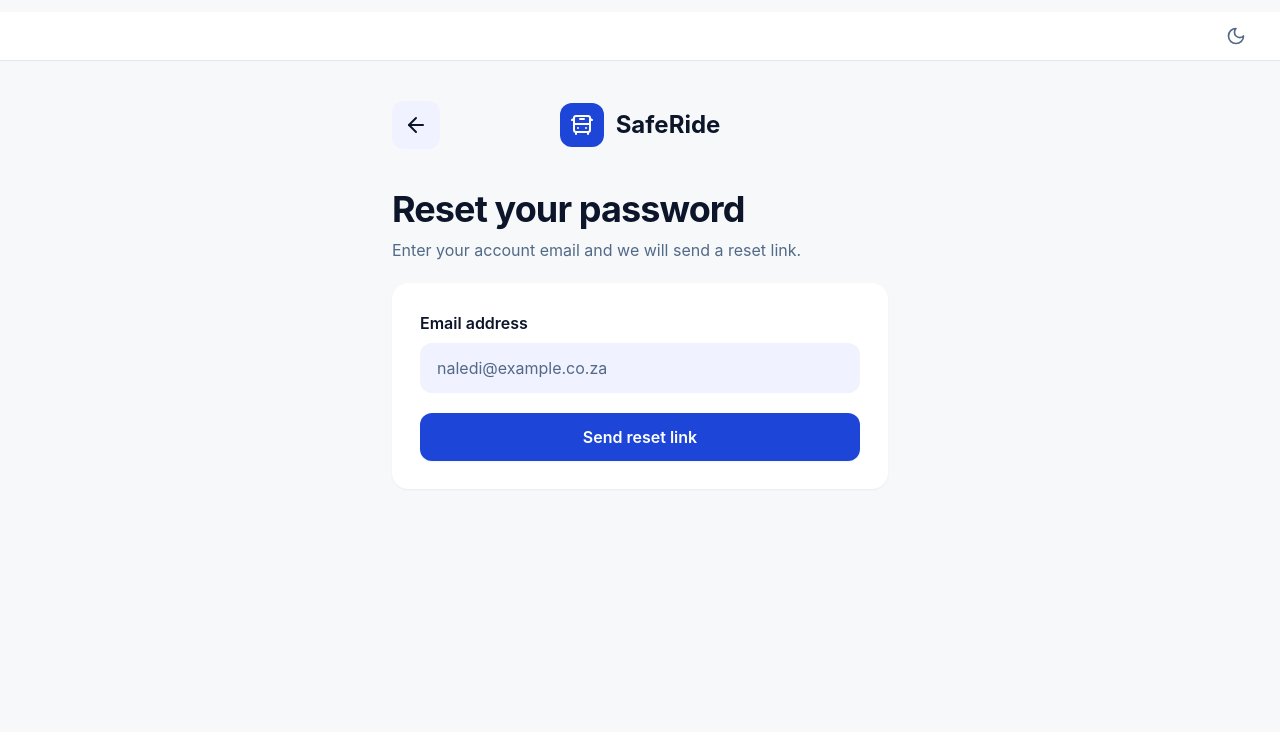
Test case: authentication › S04 sends a password reset email with the recovery route
In the field labelled "Email address": (640, 368) [420,343,860,393], type "parent@example.co.za"
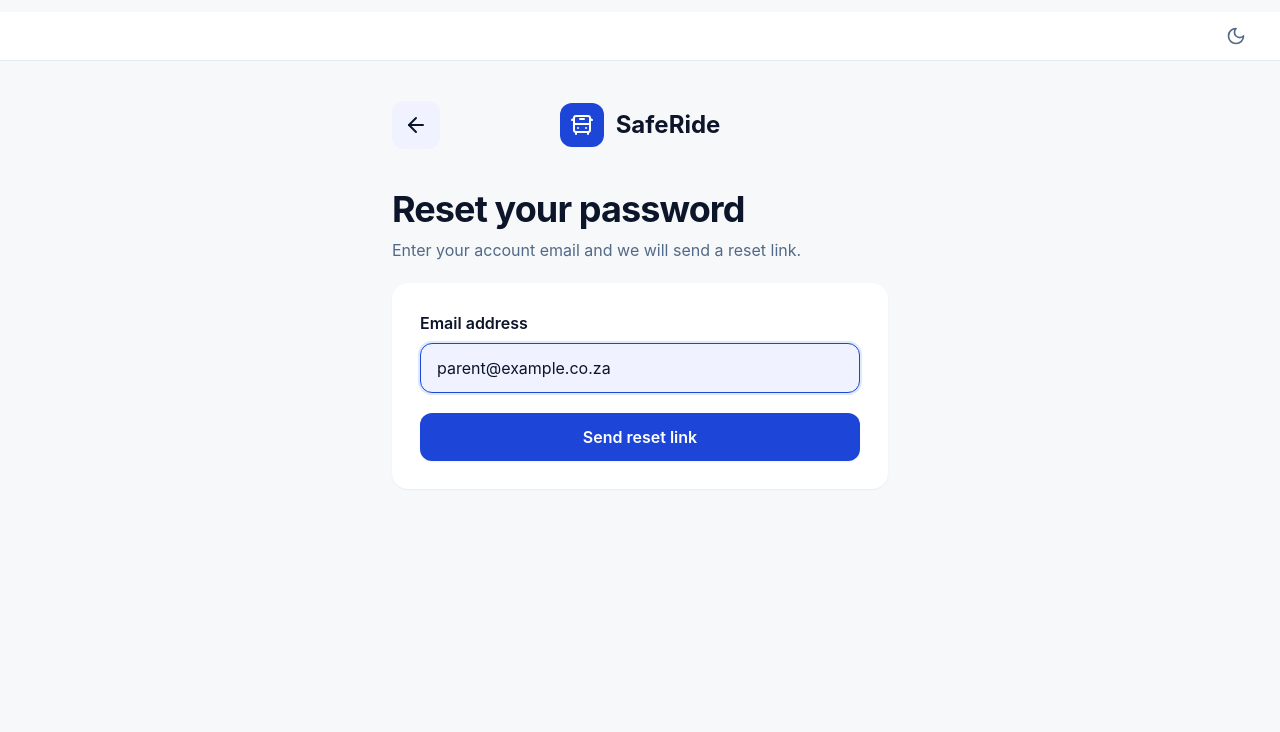
Click the button "Send reset link": (640, 437) [420,413,860,461]
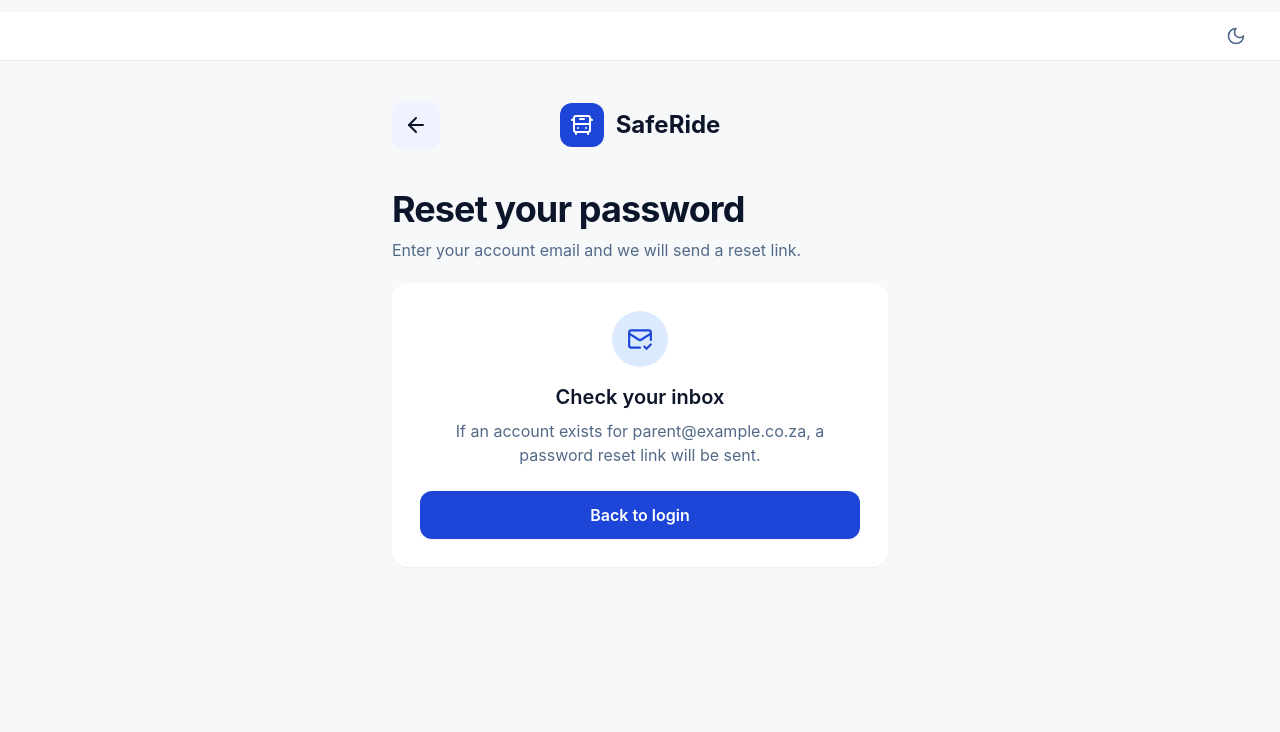
Expected: the heading "Check your inbox" is shown, [556,383,724,411]
